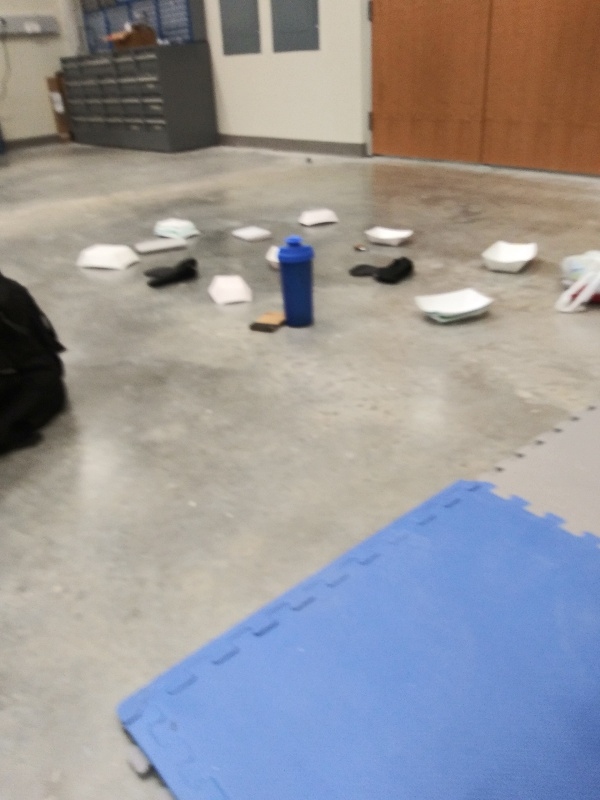plate: (409, 286, 497, 330), (476, 235, 547, 274), (69, 238, 143, 275), (205, 272, 257, 311), (360, 222, 419, 251), (151, 215, 201, 245), (293, 203, 344, 231)
